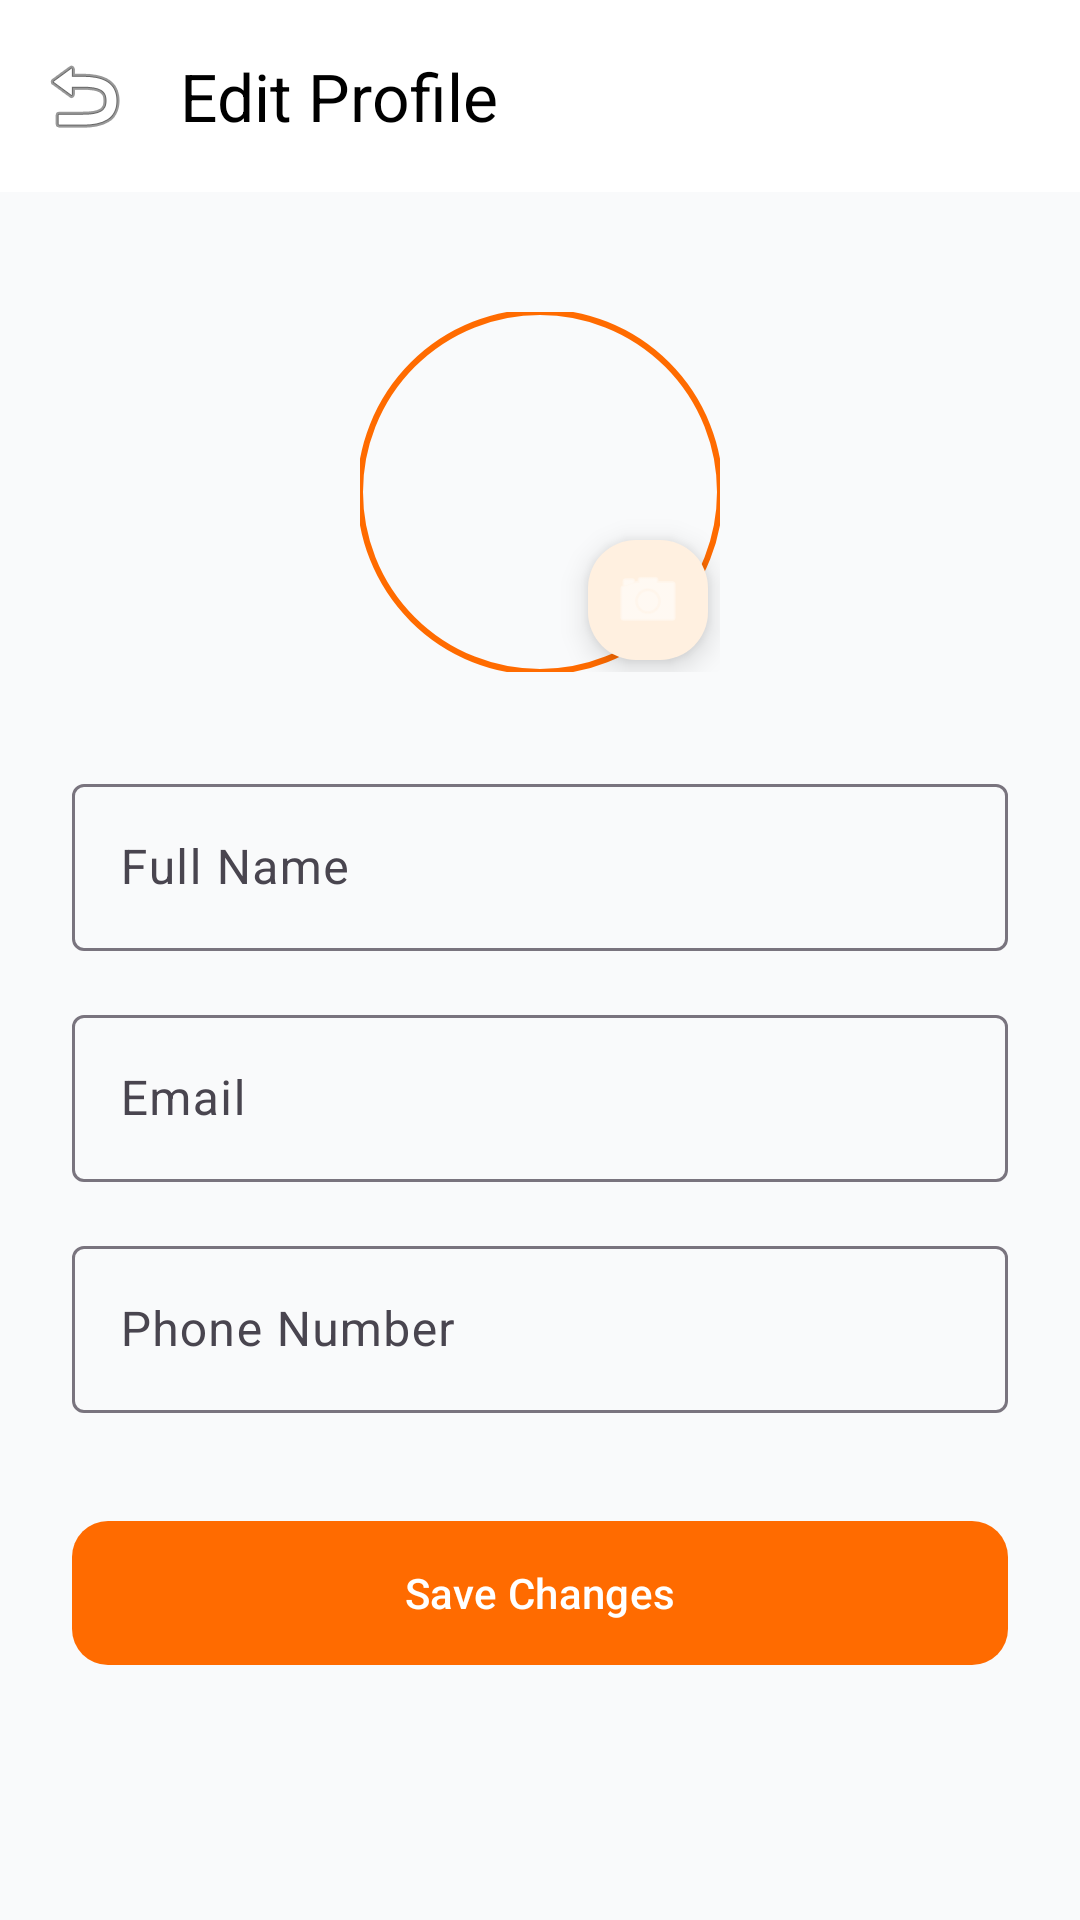

Icons on this 1080*1920 Android screen, each with its box as bbox(x1, y1, x2, y2):
Edit Profile: bbox(576, 528, 720, 672)
